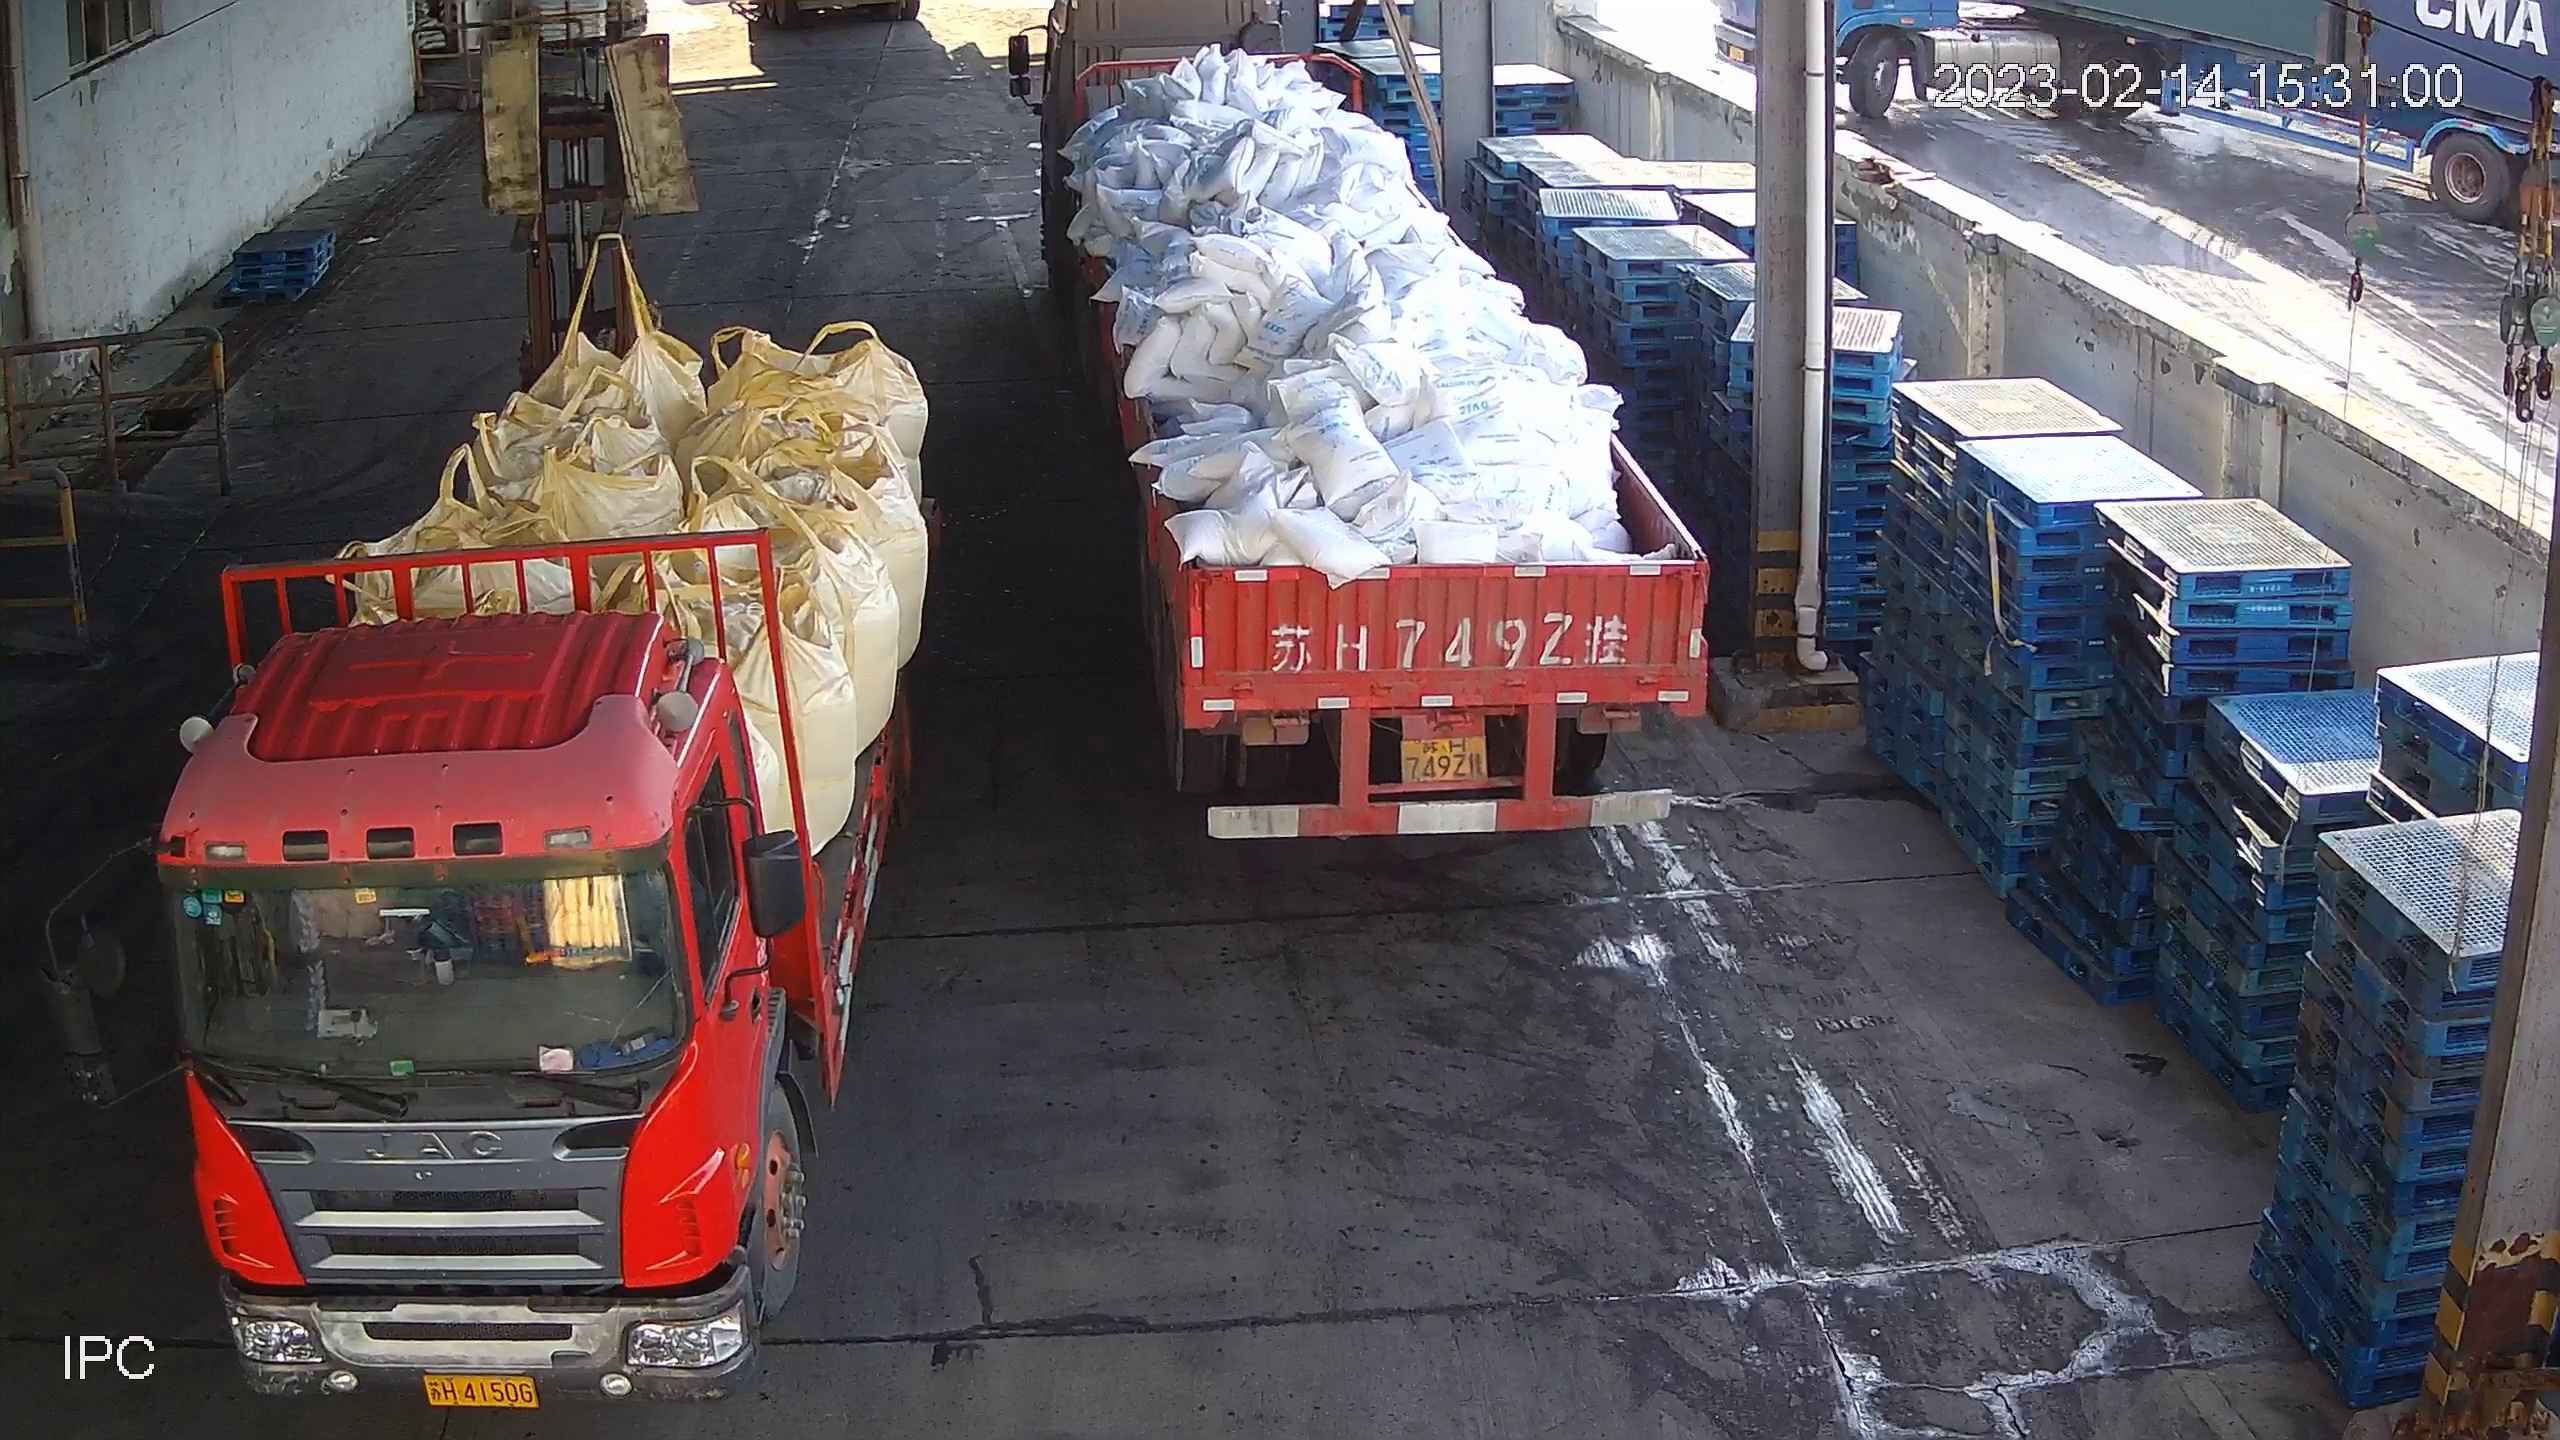truck: (32, 498, 942, 1414), (1006, 2, 1713, 849)
